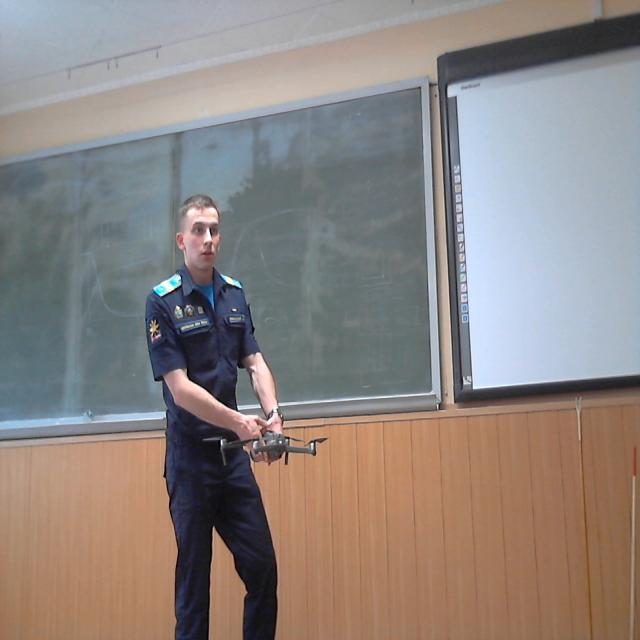drone: (196, 411, 336, 474)
